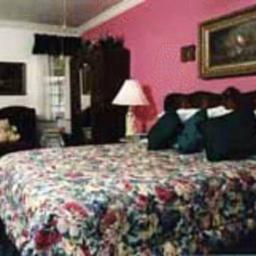Cama: (3, 91, 253, 249)
